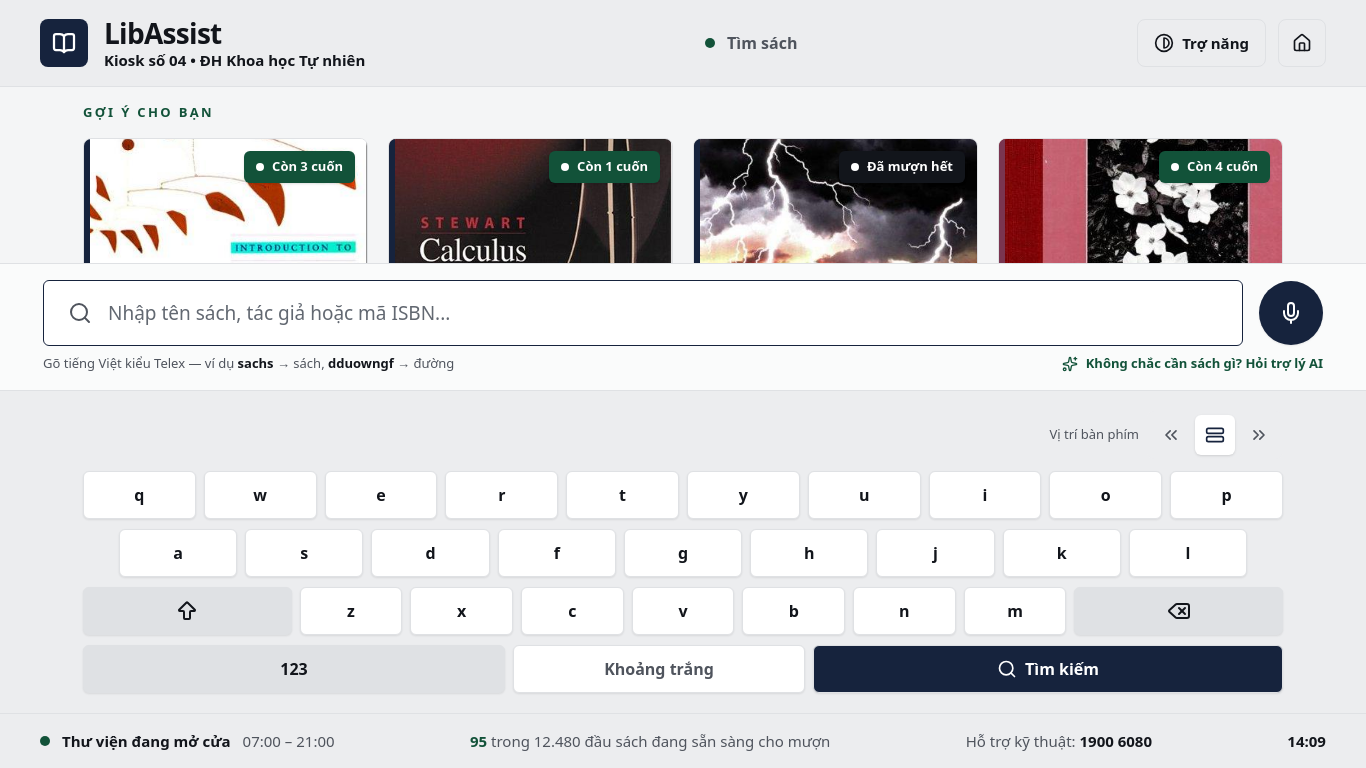
Test case: Voice search — when the browser supports it › fills the field and updates the suggestions when speech settles
Click the button named "Tìm bằng giọng nói": (1291, 313) [1259,281,1323,345]
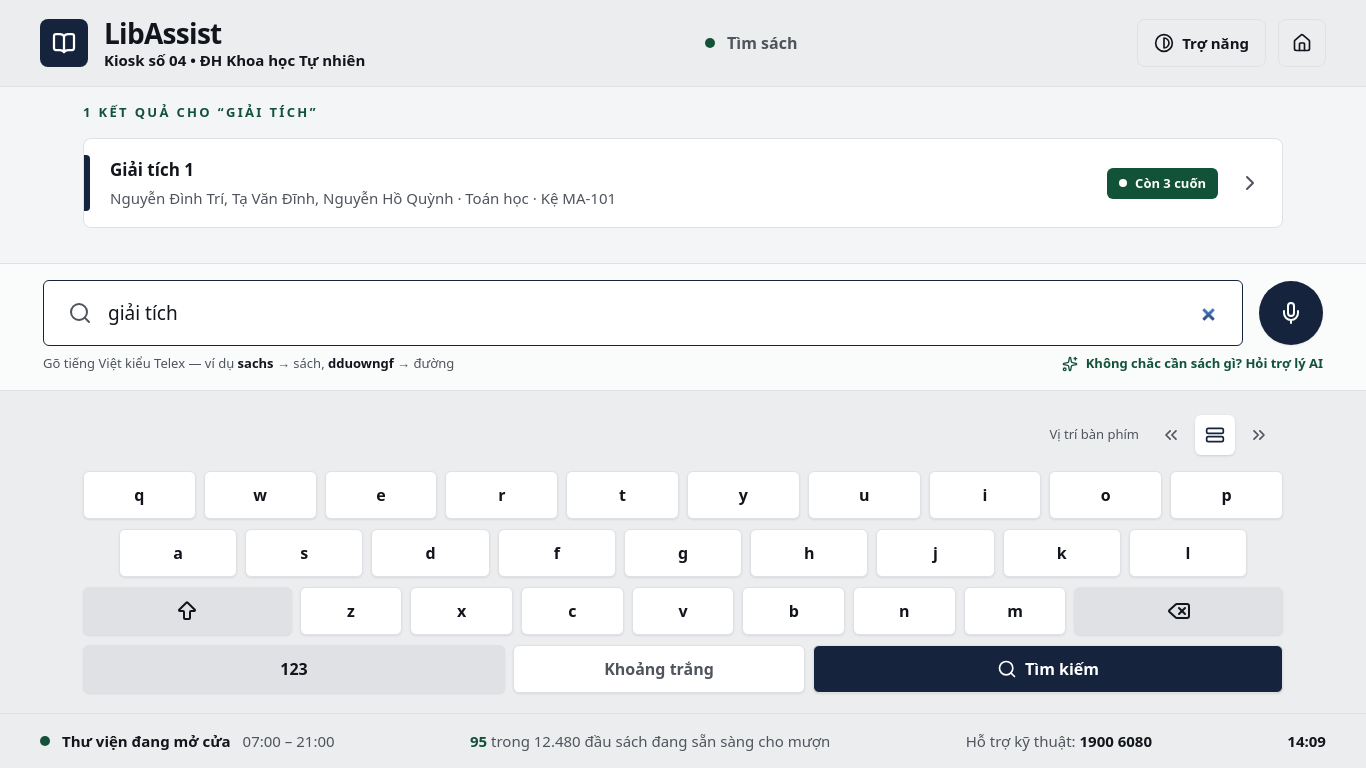
expect the search field holds "giải tích": met, box [108,281,1218,345]
expect the text "Giải tích 1" is shown: met, box [110,158,194,181]
